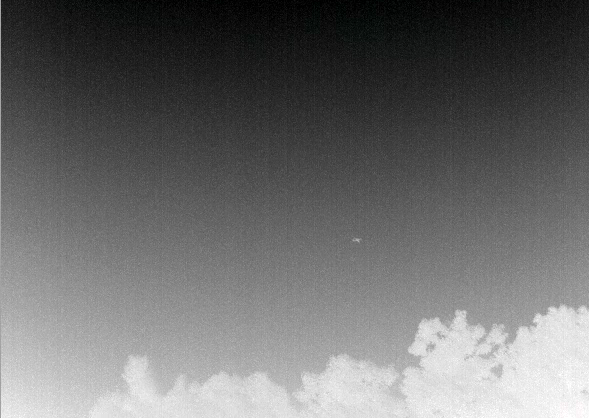dim target: (351, 237, 363, 243)
